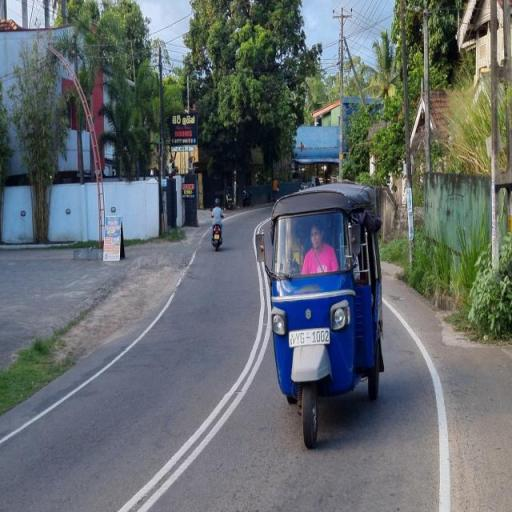double_white_line: (115, 205, 273, 512)
